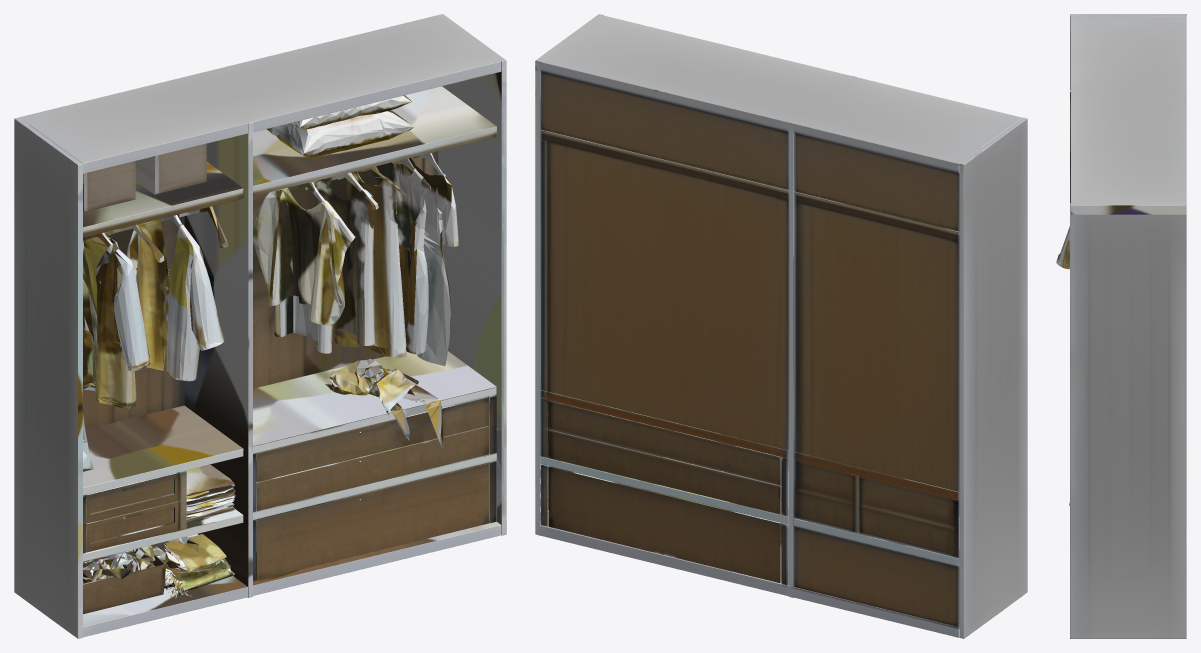
Rendered from edited_mesh.glb.
3 renders of one model, left to right at view 1: azimuth 30°, elevation 25°; view 2: azimuth 150°, elevation 25°; view 3: azimuth 270°, elevation 25°, orthographic. The views are drawn at different scales.
Visible parts, largest first — view 1: solid_001_wire; view 2: solid_001_wire; view 3: solid_001_wire.
Part boxes in pixels (x1,y1,x2,y2): solid_001_wire: (14,14,506,638); solid_001_wire: (535,14,1027,638); solid_001_wire: (1056,14,1186,638).
Size of the model in its own units: 1.28 by 1.36 by 0.3697.
Materials: 1 (1 with a texture image).
